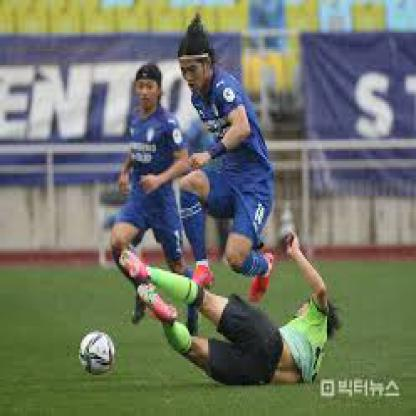Fall_Down: (119, 229, 340, 389)
